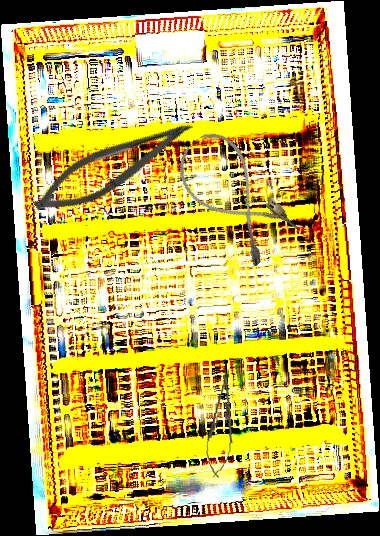Cannula: (165, 122, 304, 271)
Micro Scissor: (25, 99, 201, 230)
Needle Holder: (202, 366, 241, 480)
